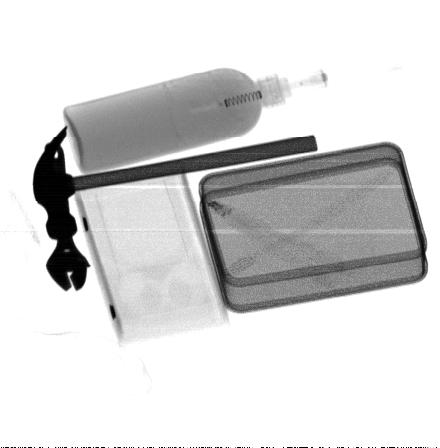Hammer: (32, 126, 318, 240)
Wrench: (44, 141, 91, 291)
